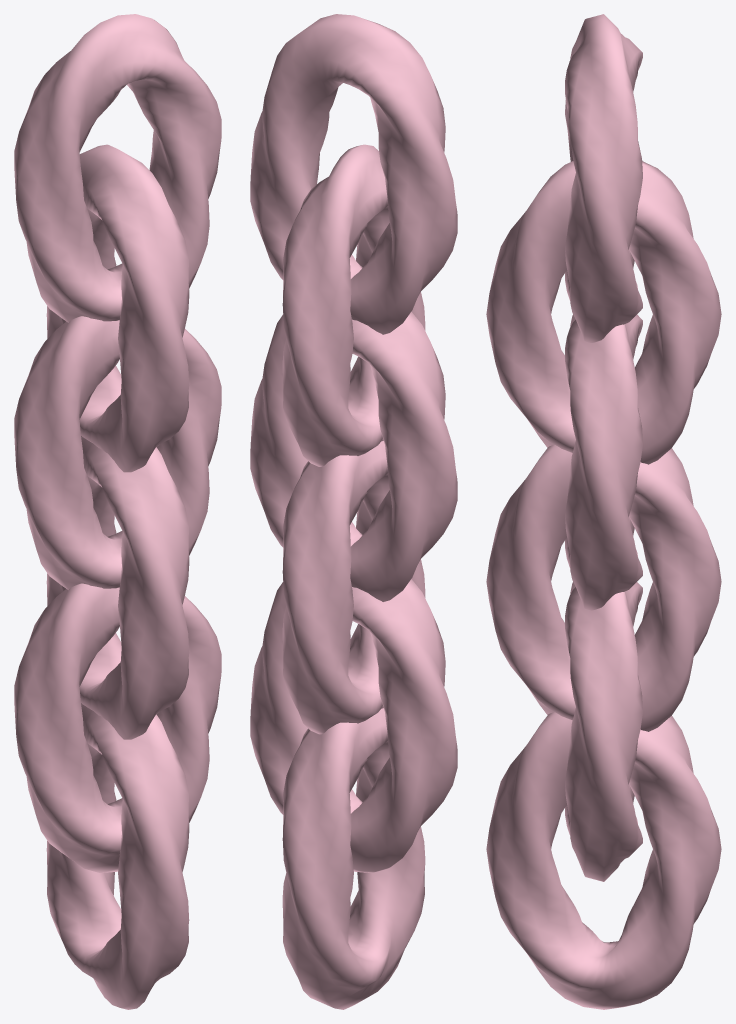
File: chain.glb
The picture shows the model from 3 angles, left to right: view 1: azimuth 30°, elevation 25°; view 2: azimuth 150°, elevation 25°; view 3: azimuth 270°, elevation 25°; orthographic projection.
Parts seen in each view (by area): view 1: Chain; view 2: Chain; view 3: Chain.
Part boxes in pixels (left/top/right/bottom): Chain: left=14, top=14, right=221, bottom=1009; Chain: left=250, top=14, right=457, bottom=1009; Chain: left=486, top=14, right=721, bottom=1009.
Size of the model in its own units: 1.02 by 4.74 by 1.02.
